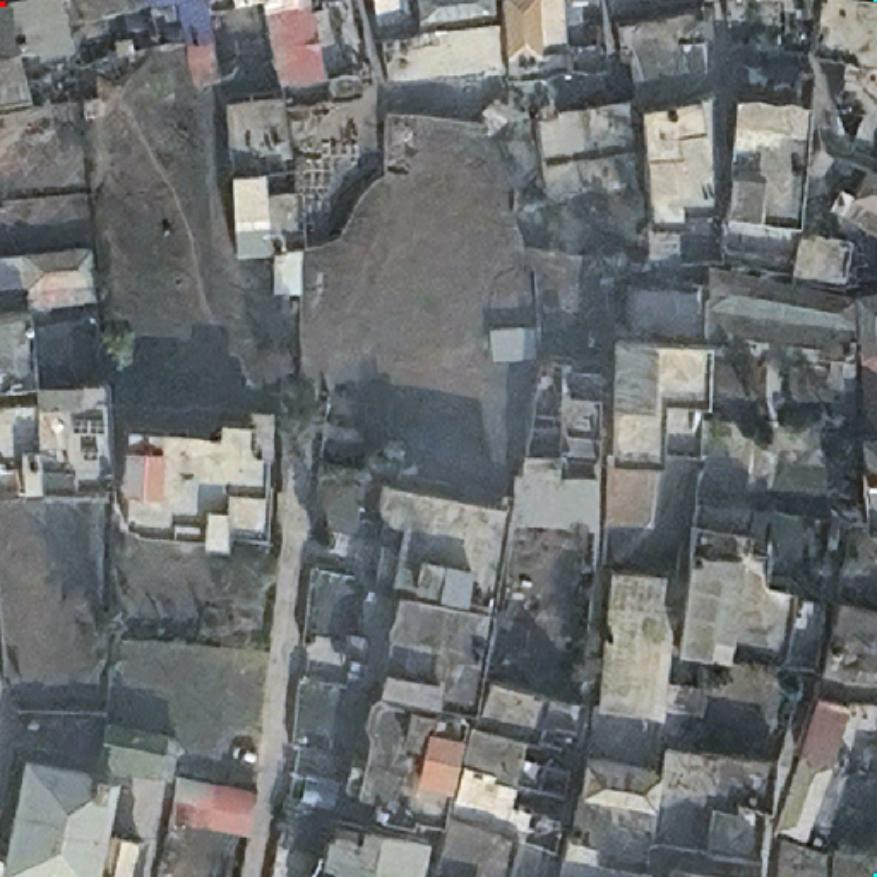Solarpanel: (70, 412, 106, 436)
